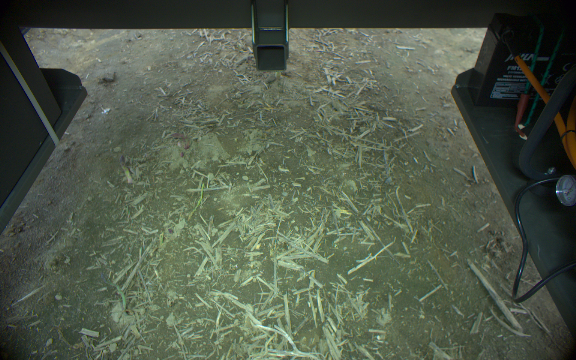aspa: (99, 274, 127, 312), (117, 154, 134, 184)
